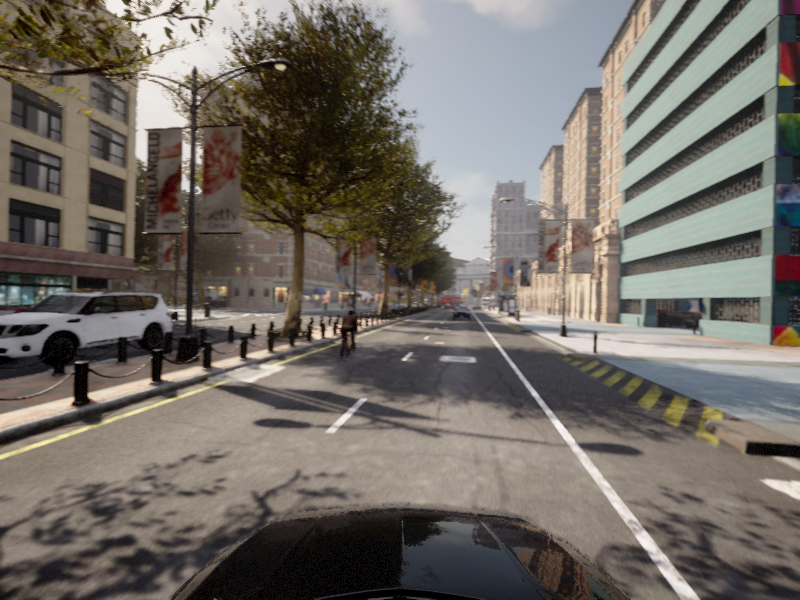vehicle: (1, 288, 180, 373), (1, 305, 98, 360), (331, 309, 364, 364), (452, 306, 470, 320)
